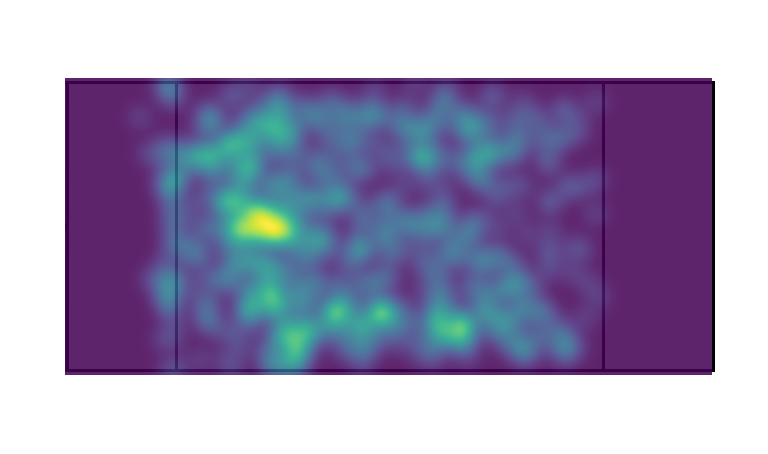

The dashboard page shown, as its layout file describes it:
{"tool":"powerbi","page":{"name":"DFThrower Compare","canvas":[1280,720],"ordinal":7},"visuals":[{"type":"BoxandWhiskerByMAQ1823AD39DT234AB532063E128AX","fields":{"categoryGroup":["throwInfoDF.type"],"category":["throwInfoDF.ID"],"measure":["Sum(throwInfoDF.dist)"],"xCategoryParent":["TBvsPHX (6).rostersAway.player.last_name"]},"box":[10.5,0,1269.5,720.3],"z":0}]}

Visuals, with their boxes on the page's 1280x720 design canvas (x1, y1, x2, y2). These are canvas units, not pixel positions in the 768x454 screenshot, which may show the page scaled, cropped or inside an application window:
BoxandWhiskerByMAQ1823AD39DT234AB532063E128AX - throwInfoDF.type x throwInfoDF.ID: Rect(10, 0, 1280, 720)
